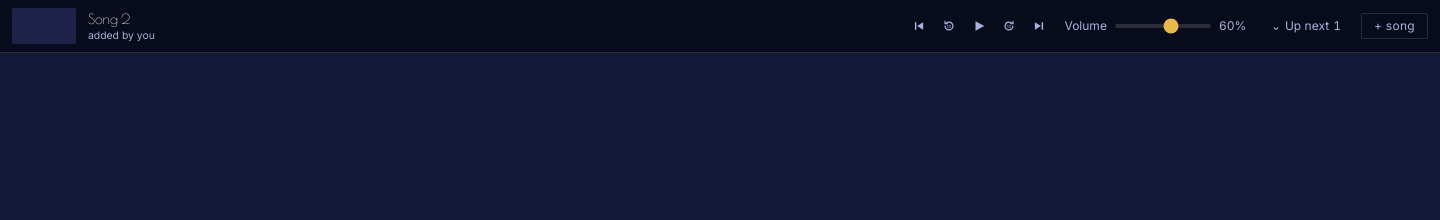
Up next › lists every song and lights the one playing
This screenshot has width=1440, height=220.
Click the button "⌄ Up next 1": coordinates (1306, 26) [1263,14,1349,38]
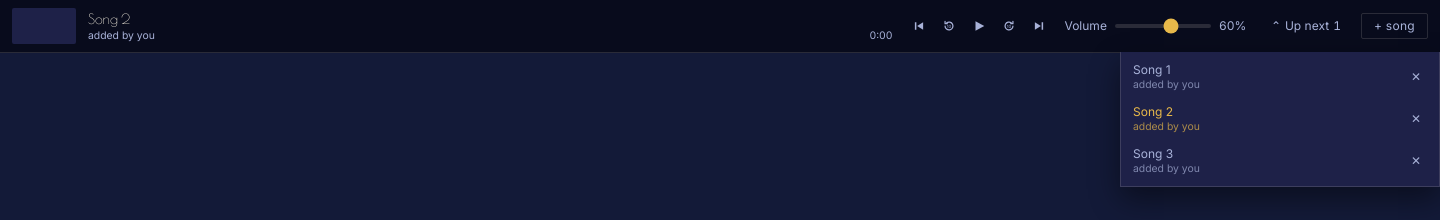
Check: the number of list items is 3, box [1121,56,1439,98]; [1121,98,1439,140]; [1121,140,1439,182]
Check: the button "Song 2 added by you" is shown, box [1133,98,1397,140]
